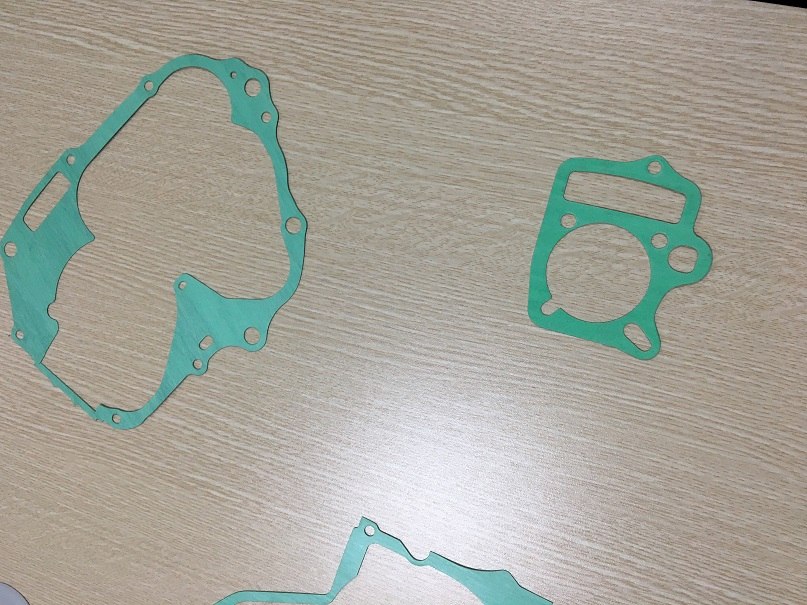type3: (1, 53, 326, 440)
type4: (518, 147, 720, 370)
